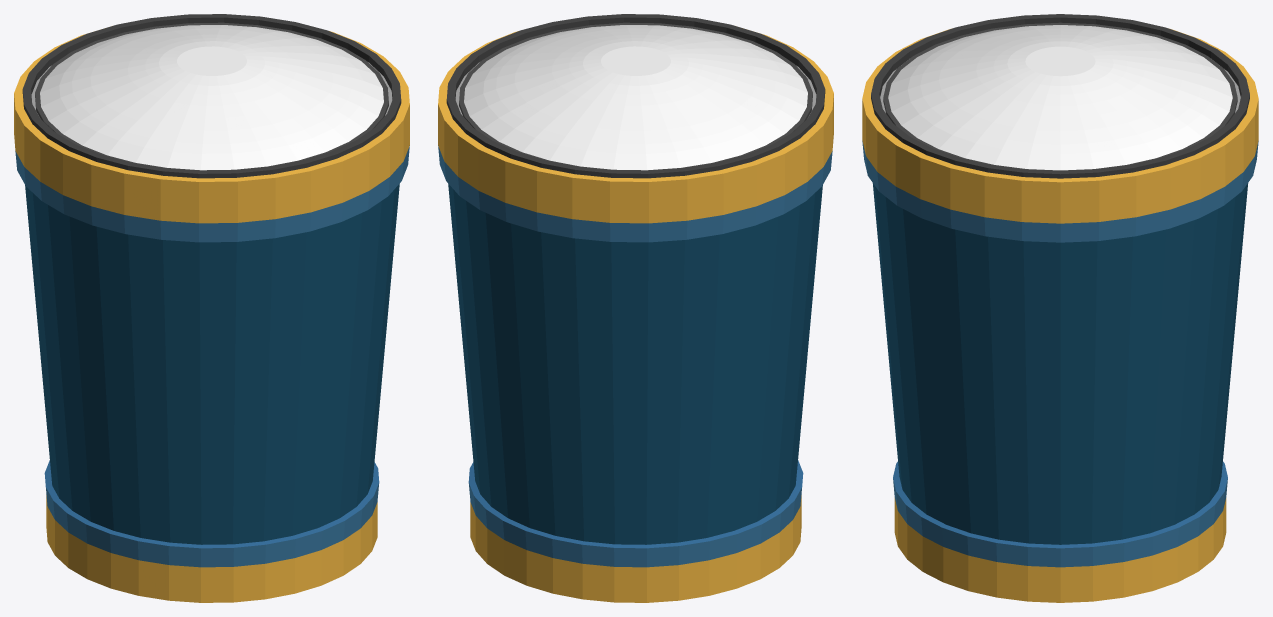
Rendered from Circular Cooler.fbx.
3 renders of one model, left to right at view 1: azimuth 30°, elevation 25°; view 2: azimuth 150°, elevation 25°; view 3: azimuth 270°, elevation 25°, orthographic.
Visible parts, largest first — view 1: Circular Cooler; view 2: Circular Cooler; view 3: Circular Cooler.
Boxes of the visible parts, bbox=[...] form: Circular Cooler: bbox=[14, 14, 409, 602]; Circular Cooler: bbox=[438, 14, 833, 602]; Circular Cooler: bbox=[862, 14, 1258, 602].
Bounding box in the file's own units: 84.2 × 110 × 84.2.
2 materials, 1 textured.
